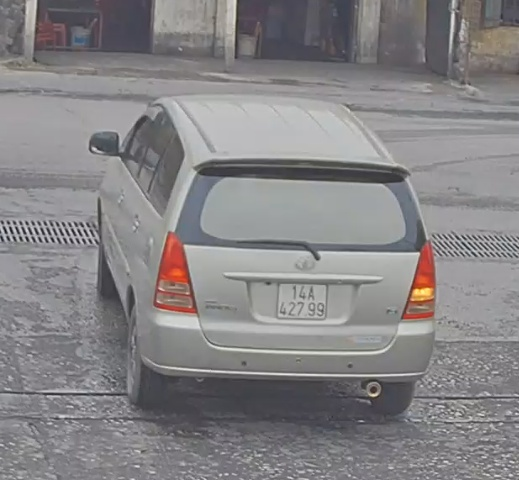vehicle plate: (276, 279, 329, 322)
